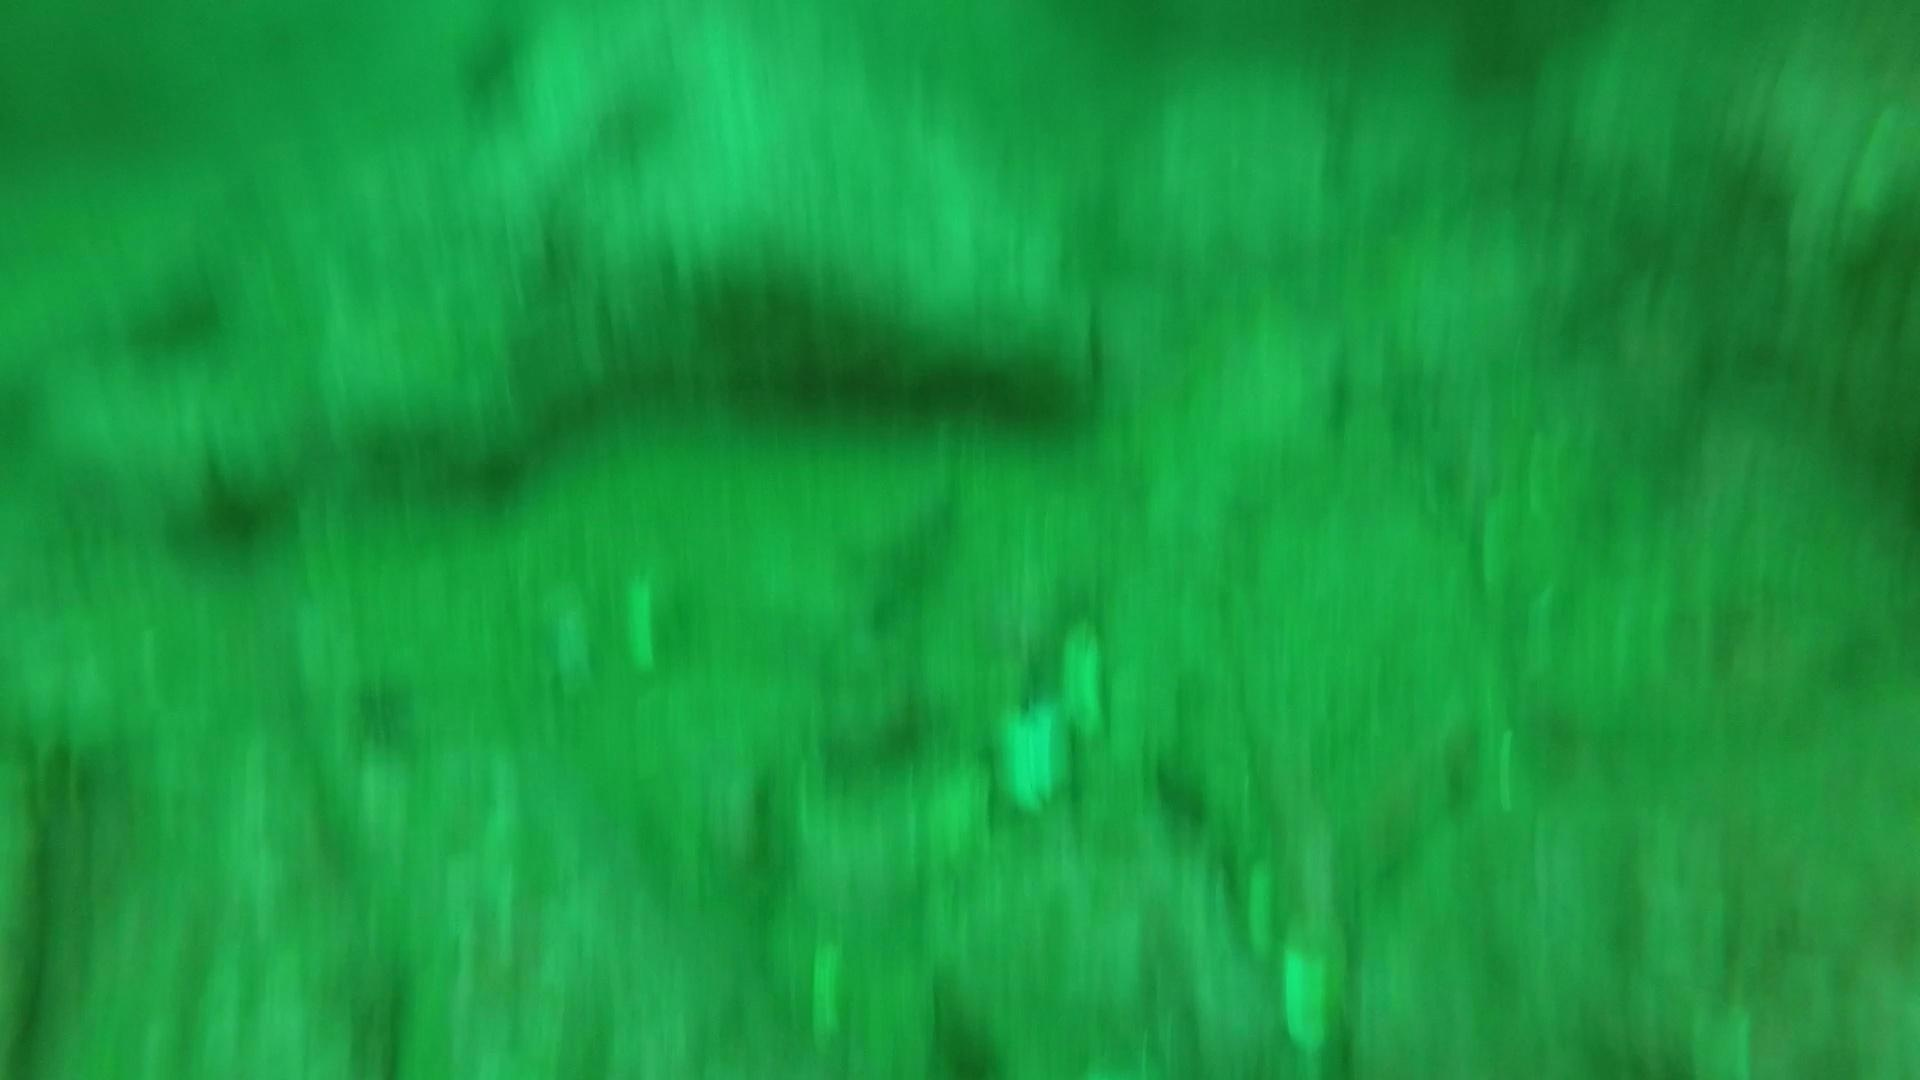echinus: (161, 454, 298, 570), (117, 260, 239, 364)
